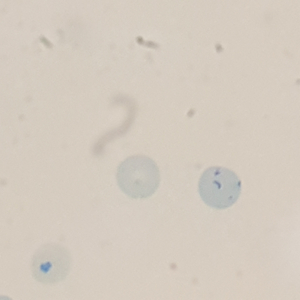aggregate reticulocyte: (197, 165, 244, 211)
erythrocyte: (114, 154, 162, 201), (29, 241, 75, 287)
